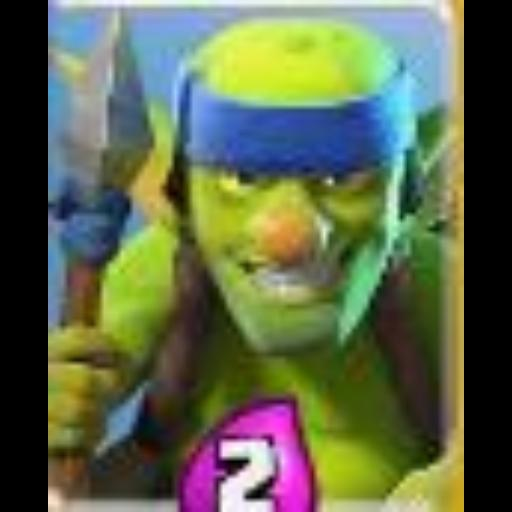spear-goblins: (48, 0, 464, 512)
